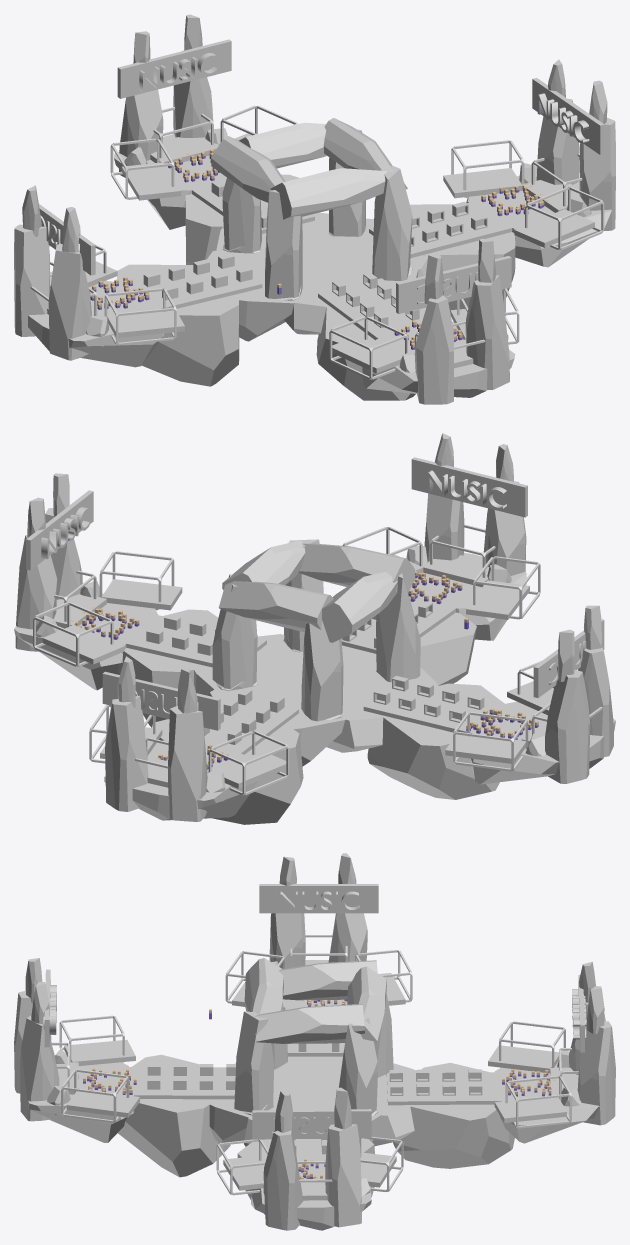
Rendered from NUSICFestival_v00.fbx.
3 views of the same model, one above another, from view 1: azimuth 30°, elevation 25°; view 2: azimuth 150°, elevation 25°; view 3: azimuth 270°, elevation 25° (orthographic). The views are drawn at different scales.
Visible parts, largest first — view 1: Cube.086, Cube.160, Cube.092, Cube.157, Cube.128, Cube.127, Cube.085, Cube.155, Cube.091, Cube.087, Cube.123, Cube.103 (+53 smaller); view 2: Cube.086, Cube.091, Cube.146, Cube.145, Cube.159, Cube.140, Cube.158, Cube.160, Cube.087, Cube.155, Cube.156, Cube.085 (+57 smaller); view 3: Cube.140, Cube.122, Cube.161, Cube.110, Cube.157, Cube.109, Cube.145, Cube.093, Cube.128, Cube.121, Cube.162, Cube.156 (+43 smaller).
Part boxes in pixels (x1,y1,x2,y2): Cube.086: [116, 264, 239, 386]; Cube.160: [270, 168, 387, 219]; Cube.092: [48, 244, 91, 360]; Cube.157: [372, 166, 412, 280]; Cube.128: [465, 275, 509, 389]; Cube.127: [414, 295, 453, 404]; Cube.085: [28, 280, 164, 367]; Cube.155: [265, 190, 302, 298]; Cube.091: [14, 224, 49, 336]; Cube.087: [206, 249, 327, 341]; Cube.123: [284, 255, 418, 334]; Cube.103: [466, 176, 611, 267]; Cube.086: [367, 683, 504, 799]; Cube.091: [545, 669, 590, 783]; Cube.146: [168, 706, 207, 821]; Cube.145: [105, 695, 148, 811]; Cube.159: [218, 581, 333, 632]; Cube.140: [152, 719, 303, 824]; Cube.158: [301, 620, 343, 721]; Cube.160: [298, 543, 415, 592]; Cube.087: [326, 665, 437, 752]; Cube.155: [376, 573, 420, 682]; Cube.156: [212, 574, 257, 688]; Cube.085: [470, 701, 615, 784]; Cube.140: [393, 1062, 514, 1168]; Cube.122: [118, 1054, 230, 1177]; Cube.161: [254, 1004, 364, 1043]; Cube.110: [325, 1124, 361, 1227]; Cube.157: [234, 1011, 274, 1112]; Cube.109: [263, 1130, 303, 1230]; Cube.145: [577, 1021, 615, 1125]; Cube.093: [259, 884, 378, 913]; Cube.128: [20, 1015, 59, 1121]; Cube.121: [28, 1062, 133, 1142]; Cube.162: [278, 960, 377, 1000]; Cube.156: [339, 1017, 377, 1113].
Bounding box in the file's own units: 4030 × 1374 × 4026.
